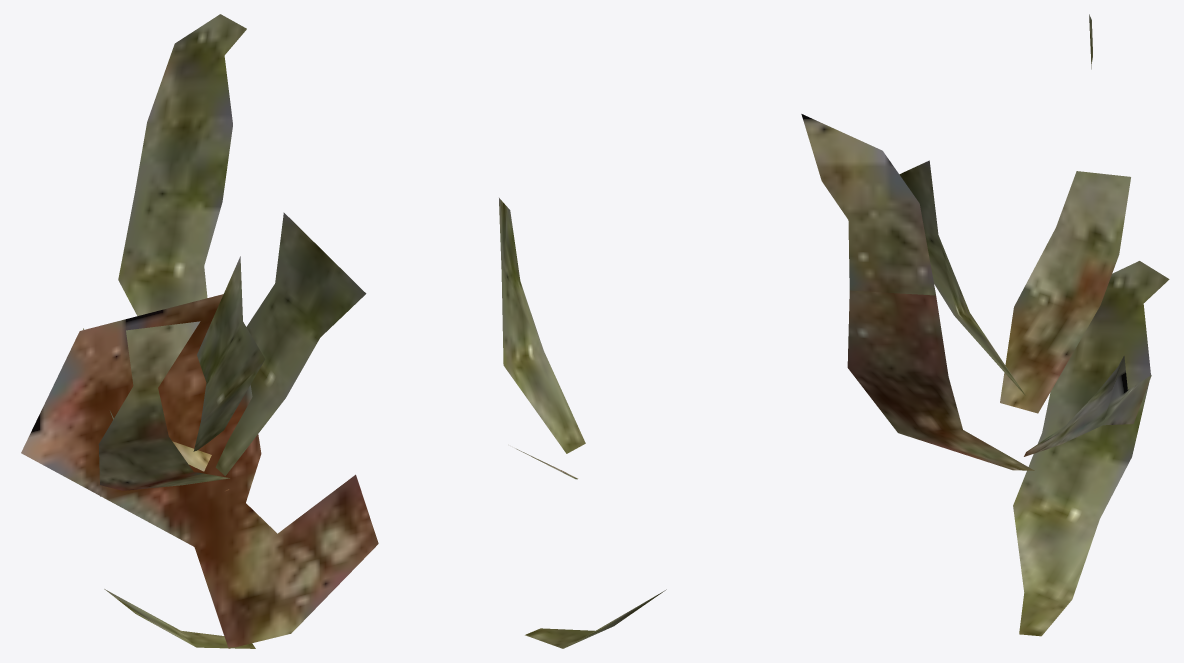
Rendered from Seaweed_F7-transformed.glb.
The picture shows the model from 3 angles, left to right: view 1: azimuth 30°, elevation 25°; view 2: azimuth 150°, elevation 25°; view 3: azimuth 270°, elevation 25°; orthographic projection.
Parts seen in each view (by area): view 1: Seaweed_F7; view 2: Seaweed_F7; view 3: Seaweed_F7.
Boxes of the visible parts, bbox=[...] form: Seaweed_F7: bbox=[21, 14, 378, 648]; Seaweed_F7: bbox=[499, 198, 666, 648]; Seaweed_F7: bbox=[801, 14, 1169, 636].
Size of the model in its own units: 0.1424 by 0.2315 by 0.1257.
1 material, 1 textured.
